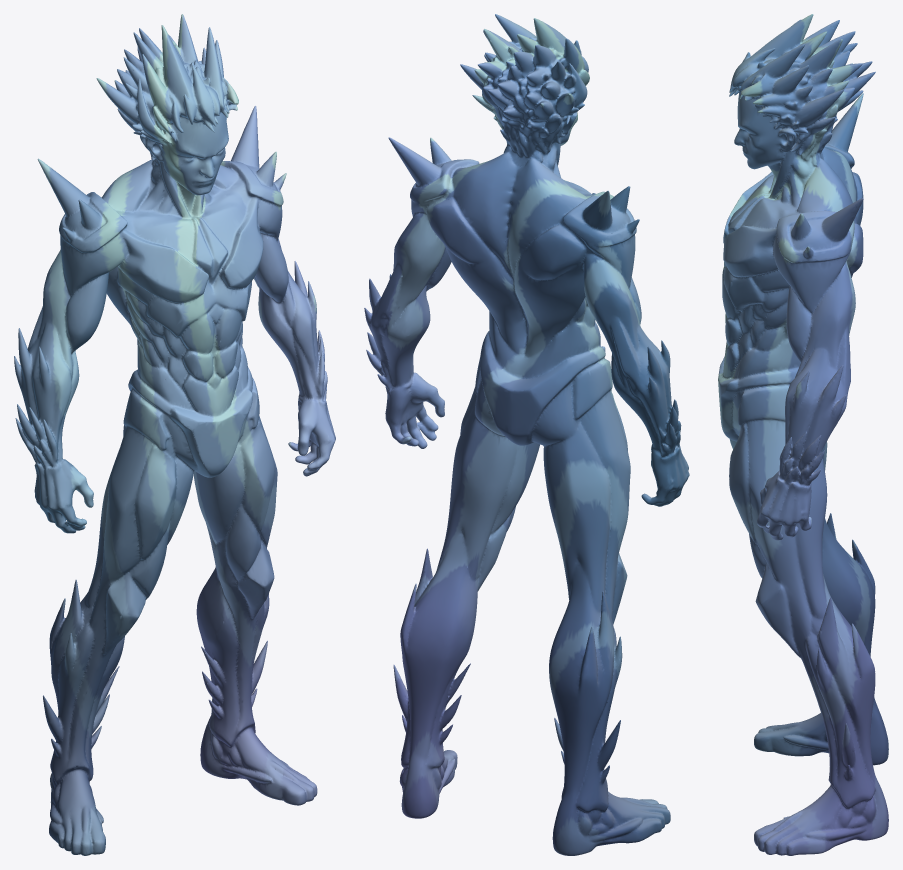
File: player-level-02.glb
3 renders of one model, left to right at view 1: azimuth 30°, elevation 25°; view 2: azimuth 150°, elevation 25°; view 3: azimuth 270°, elevation 25°, orthographic. The views are drawn at different scales.
Parts seen in each view (by area): view 1: world; view 2: world; view 3: world.
Boxes of the visible parts, x1=… form: world: x1=14, y1=14, x2=335, y2=855; world: x1=364, y1=14, x2=689, y2=855; world: x1=718, y1=14, x2=888, y2=855.
Size of the model in its own units: 0.7664 by 1.9 by 0.3772.
